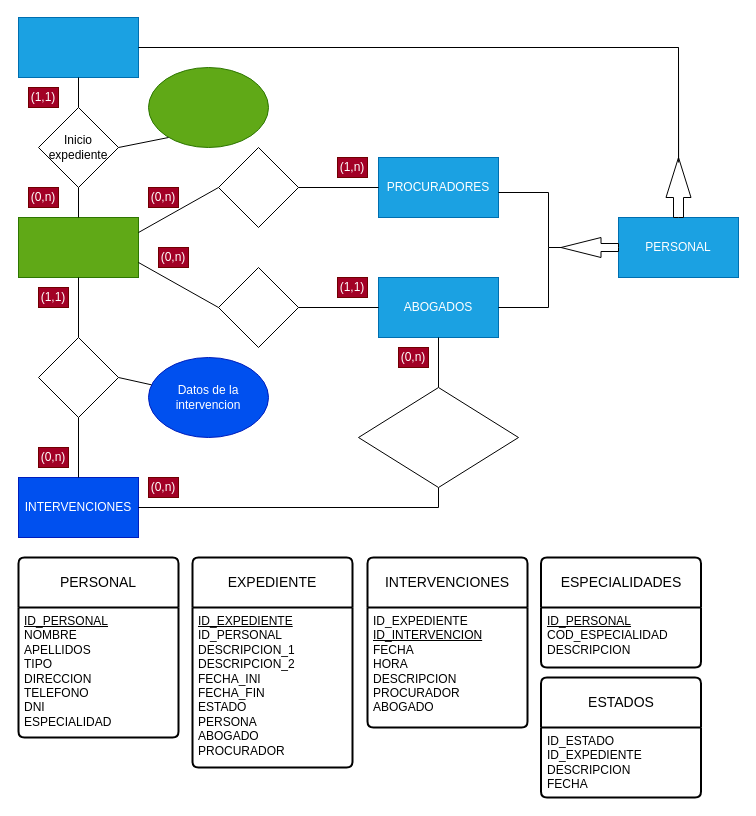
Image size: 756x816. Some labels were removed from this diagram. Each missing label, with the centre of its shape:
"CLIENTES" belongs at point (78, 47).
"Datos del expediente" belongs at point (208, 107).
"Especializacion y otro abogado" belongs at point (438, 437).
"EXPEDIENTES" belongs at point (78, 247).
"Intervencion" belongs at point (78, 377).
"Procu" belongs at point (258, 187).
"Resp. Aboga" belongs at point (258, 307).
